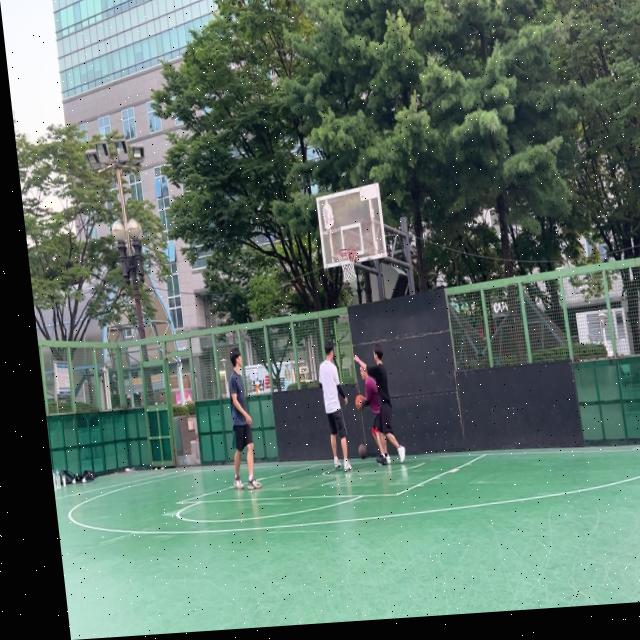basketball: (357, 443, 369, 460), (355, 394, 365, 410)
hoop: (336, 247, 359, 285)
